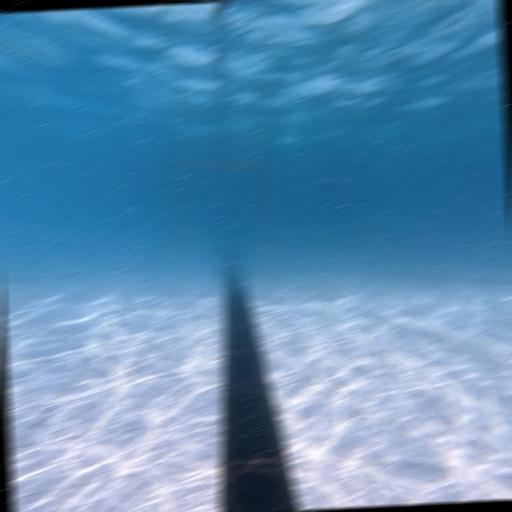gate: (170, 160, 278, 294)
